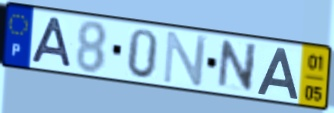0: (126, 28, 160, 80)
8: (75, 19, 111, 76)
A: (255, 46, 300, 101), (29, 15, 74, 70)
N: (161, 30, 210, 88), (215, 38, 260, 94)
